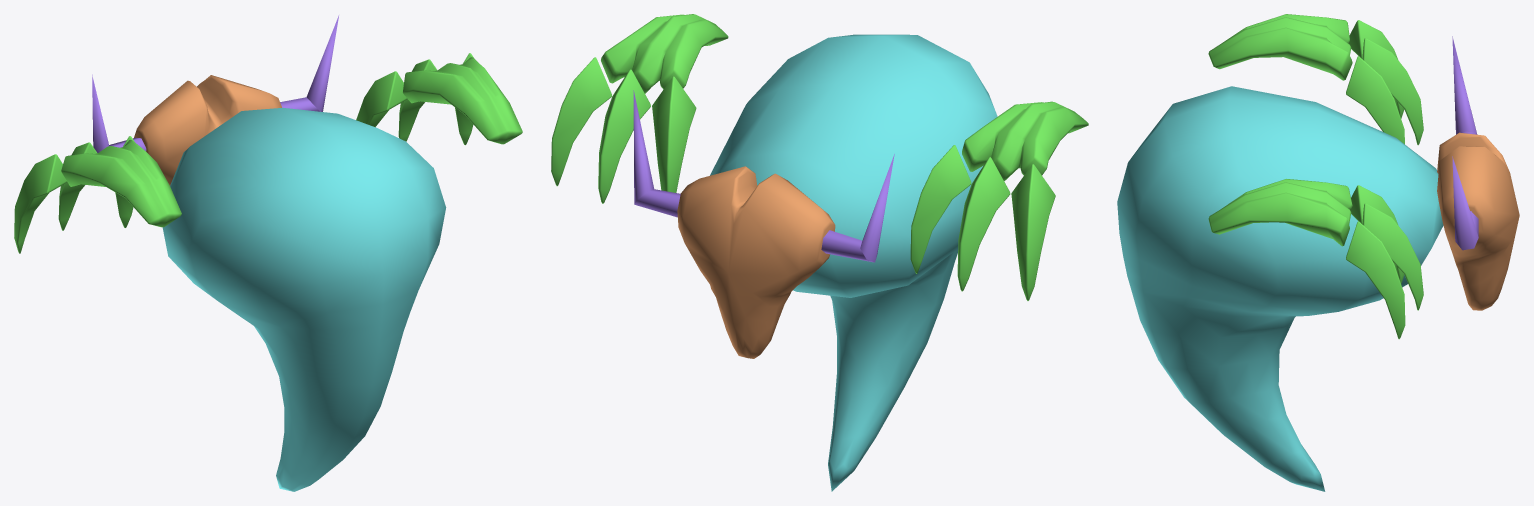
Rendered from enemy2.fbx.
The picture shows the model from 3 angles, left to right: view 1: azimuth 30°, elevation 25°; view 2: azimuth 150°, elevation 25°; view 3: azimuth 270°, elevation 25°; orthographic projection. The views are drawn at different scales.
Visible parts, largest first — view 1: Cube.006, Cube.009, Cube.007; view 2: Cube.006, Cube.009, Cube.007; view 3: Cube.006, Cube.007, Cube.009.
Boxes of the visible parts, <box> form: Cube.006: <box>92,15,446,491</box>; Cube.009: <box>14,136,181,253</box>; Cube.007: <box>356,53,522,145</box>; Cube.006: <box>633,34,997,491</box>; Cube.009: <box>910,101,1088,300</box>; Cube.007: <box>551,14,728,203</box>; Cube.006: <box>1117,36,1519,491</box>; Cube.007: <box>1208,179,1423,339</box>; Cube.009: <box>1208,14,1423,145</box>.
Size of the model in its own units: 218 by 181 by 167.
